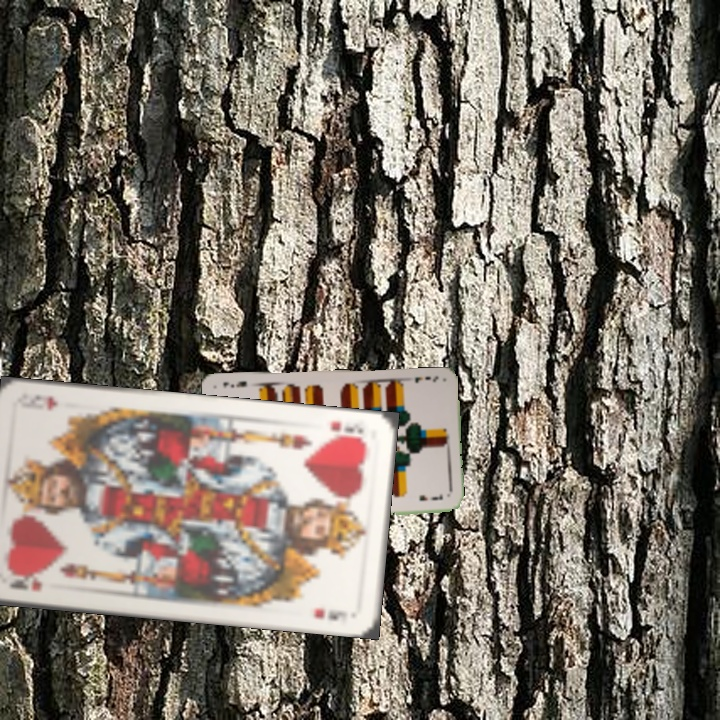E7: (410, 372, 440, 385)
HK: (323, 417, 366, 443), (6, 571, 45, 594)
